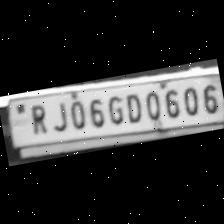0: (63, 94, 88, 131), (138, 86, 162, 122), (176, 81, 200, 116)
6: (82, 92, 107, 130), (195, 78, 220, 114), (158, 83, 180, 119)
D: (119, 87, 144, 124)
G: (102, 90, 126, 127)
J: (44, 96, 69, 134)
R: (22, 99, 50, 138)
